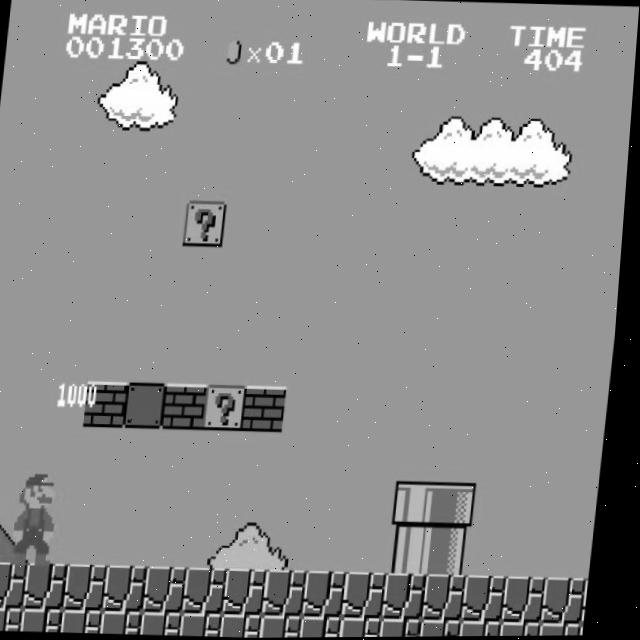1- brick_block: (88, 381, 134, 428), (168, 383, 214, 430), (248, 385, 293, 432)
13- mystery_block: (208, 384, 254, 432), (185, 201, 231, 247)
14- pipe: (394, 527, 440, 574), (434, 528, 480, 575)
15- pipe_head: (438, 483, 484, 530), (399, 481, 444, 529)
17- undestructible_block: (31, 562, 77, 610), (270, 569, 316, 617), (470, 575, 516, 623), (549, 577, 595, 625), (71, 564, 117, 611), (111, 565, 157, 612), (310, 571, 356, 618), (350, 572, 396, 619), (390, 573, 436, 620), (430, 574, 476, 621), (510, 577, 556, 624), (151, 566, 196, 613), (191, 567, 236, 614), (231, 568, 276, 615), (0, 561, 37, 608), (109, 610, 152, 635), (189, 612, 232, 637), (29, 608, 73, 632), (228, 614, 272, 638), (69, 609, 112, 633), (149, 611, 192, 635), (268, 615, 311, 638), (308, 616, 351, 638), (348, 617, 391, 638), (388, 618, 431, 638), (0, 607, 33, 631), (428, 619, 471, 637), (468, 621, 511, 637), (508, 622, 551, 637), (548, 622, 591, 637), (589, 578, 597, 624), (588, 624, 592, 636)
3- empty_block: (128, 382, 174, 429)
